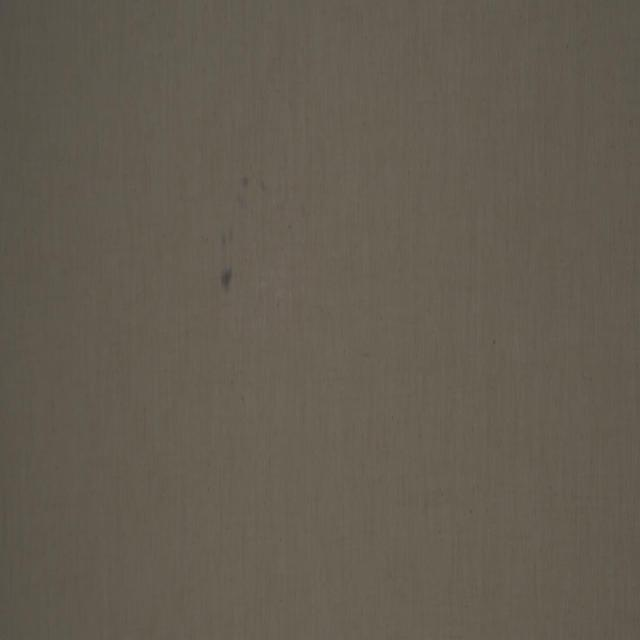dirty: (220, 267, 232, 288), (220, 230, 233, 244), (241, 176, 249, 188), (262, 181, 266, 194)
